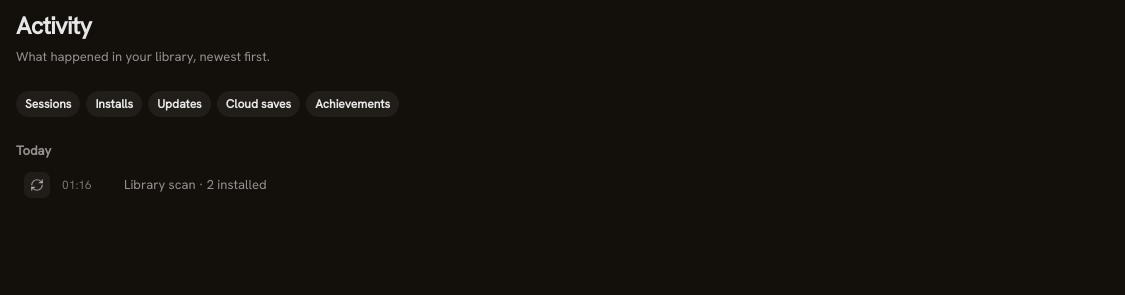
it: Atlas activity filters › keeps scan events out of the Updates filter
The width and height of the screenshot is (1125, 295).
Check: the text "Library scan · 2 installed" is shown, box [124, 176, 266, 193]
Click the button "Updates" at (180, 104), box [148, 90, 211, 116]
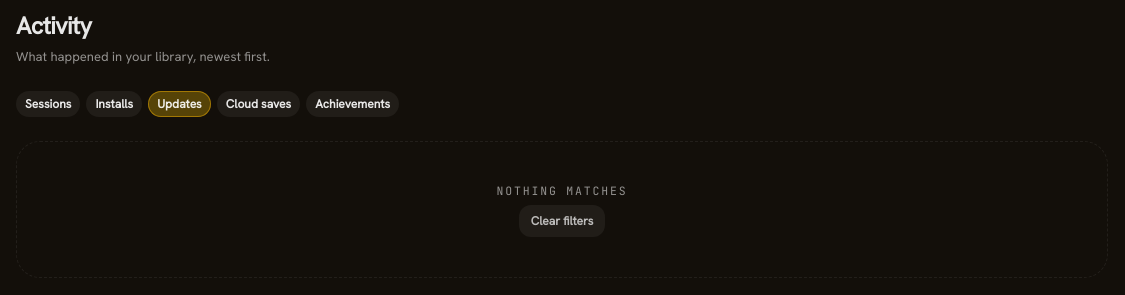
Check: the text "Library scan · 2 installed" is gone
